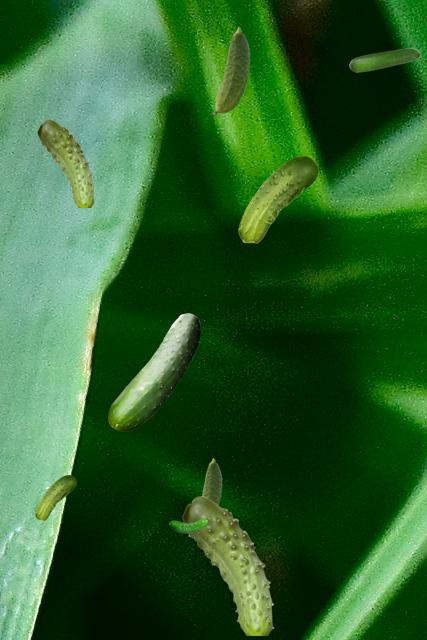cucumber: (182, 496, 273, 634), (108, 313, 199, 430), (238, 156, 317, 242), (37, 119, 94, 206), (210, 27, 249, 114), (35, 475, 75, 519), (349, 48, 419, 71), (201, 458, 221, 505), (169, 515, 209, 532)
